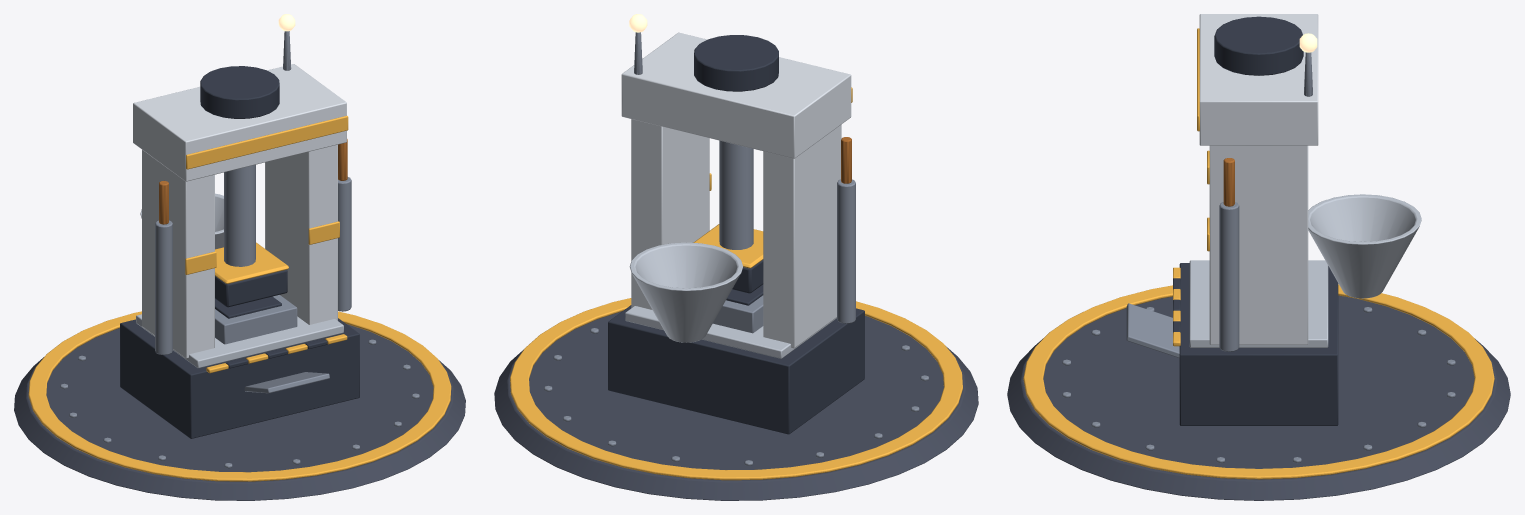
File: presse.fbx
3 renders of one model, left to right at view 1: azimuth 30°, elevation 25°; view 2: azimuth 150°, elevation 25°; view 3: azimuth 270°, elevation 25°, orthographic. The views are drawn at different scales.
Parts seen in each view (by area): view 1: presse_Koerper, presse_Kolben; view 2: presse_Koerper, presse_Kolben; view 3: presse_Koerper.
Part boxes in pixels (x1,y1,x2,y2): presse_Koerper: [14, 14, 465, 500]; presse_Kolben: [215, 164, 288, 307]; presse_Koerper: [494, 14, 978, 500]; presse_Kolben: [693, 140, 763, 293]; presse_Koerper: [1007, 14, 1510, 500].
Bounding box in the file's own units: 5.09 × 4.44 × 5.09.
